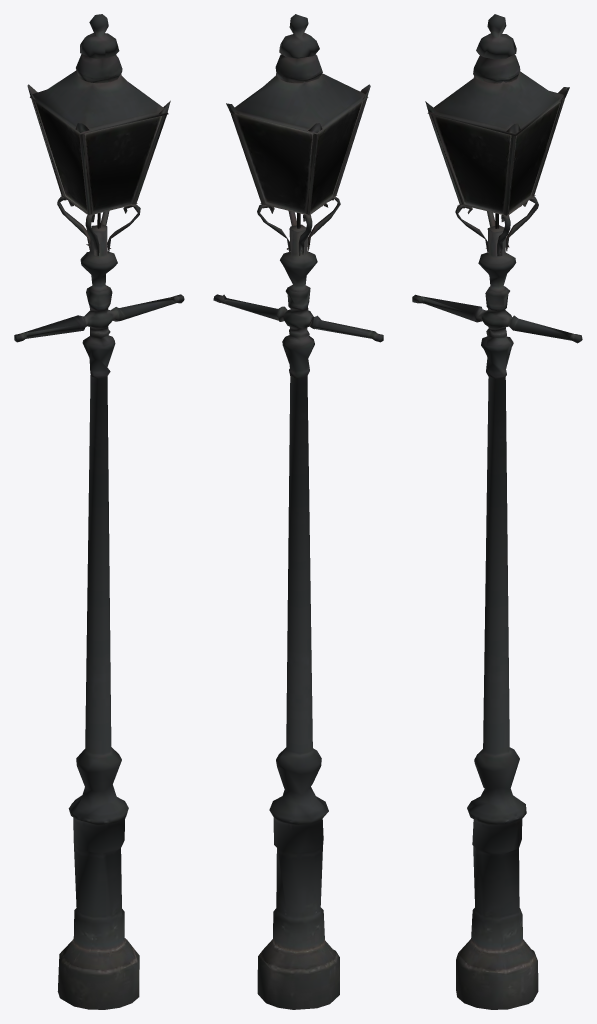
File: street_lamp_01.glb
3 renders of one model, left to right at view 1: azimuth 30°, elevation 25°; view 2: azimuth 150°, elevation 25°; view 3: azimuth 330°, elevation 25°, orthographic.
Visible parts, largest first — view 1: street_lamp_01; view 2: street_lamp_01; view 3: street_lamp_01.
Part boxes in pixels (left/top/right/bottom): street_lamp_01: left=14, top=14, right=184, bottom=1009; street_lamp_01: left=213, top=14, right=383, bottom=1009; street_lamp_01: left=412, top=14, right=582, bottom=1009.
Size of the model in its own units: 0.6953 by 3.87 by 0.3846.
2 materials, 2 textured.
